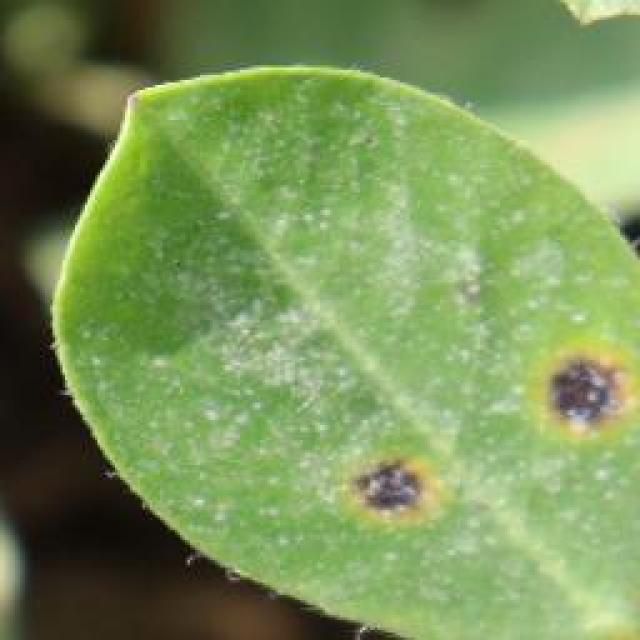Sigatoka: (520, 324, 640, 467), (325, 436, 503, 529)
